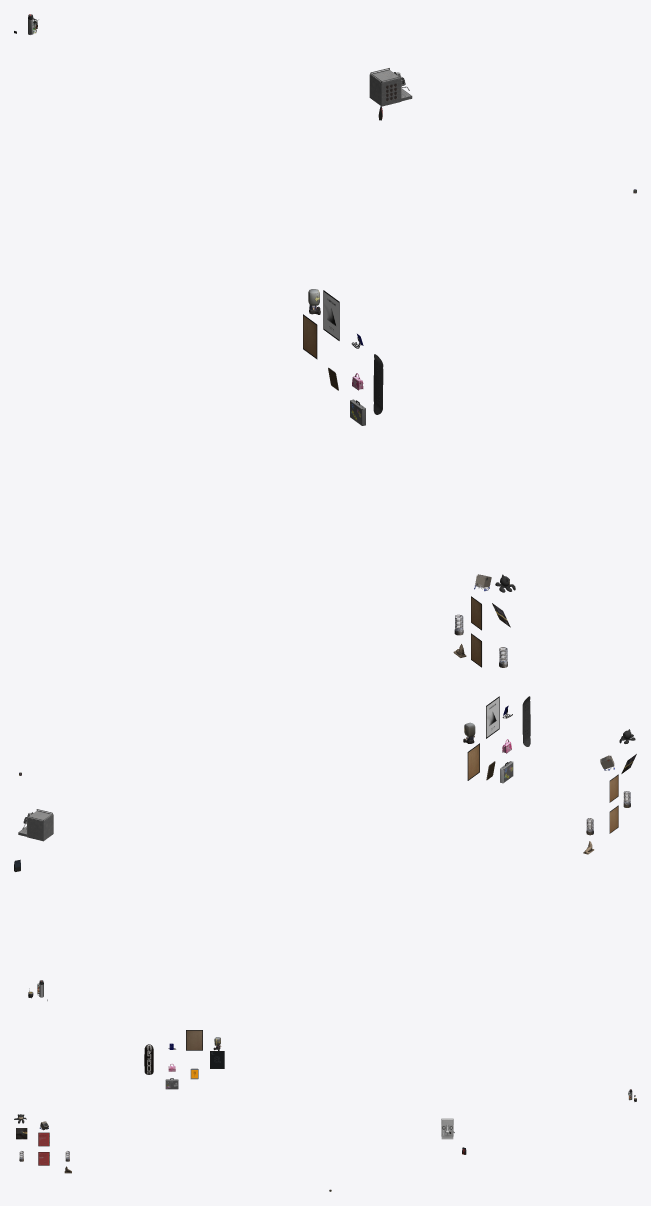
Rendered from officeItems-aef75712.glb.
The picture shows the model from 3 angles, top to bottom: view 1: azimuth 30°, elevation 25°; view 2: azimuth 150°, elevation 25°; view 3: azimuth 270°, elevation 25°; orthographic projection. The views are drawn at different scales.
Parts seen in each view (by area): view 1: MTl_BackFrame, SM_07_02; view 2: MTl_BackFrame, SM_07_02; view 3: Glass_MatCap, MTl_BackFrame, TX_SOTD, MTL_EDGLRD, SM_07_02, MTL_SKATEBOARD.
Boxes of the visible parts, x1,y1,x2,y2 form: MTl_BackFrame: [303, 290, 481, 667]; SM_07_02: [369, 68, 412, 106]; MTl_BackFrame: [467, 696, 618, 833]; SM_07_02: [18, 809, 53, 841]; Glass_MatCap: [38, 1031, 223, 1164]; MTl_BackFrame: [38, 1030, 224, 1165]; TX_SOTD: [16, 1128, 48, 1165]; MTL_EDGLRD: [144, 1044, 153, 1074]; SM_07_02: [441, 1118, 454, 1139]; MTL_SKATEBOARD: [210, 1051, 224, 1068].
Size of the model in its own units: 8.84 by 5.22 by 20.96.
Materials: 26 (24 with a texture image).
